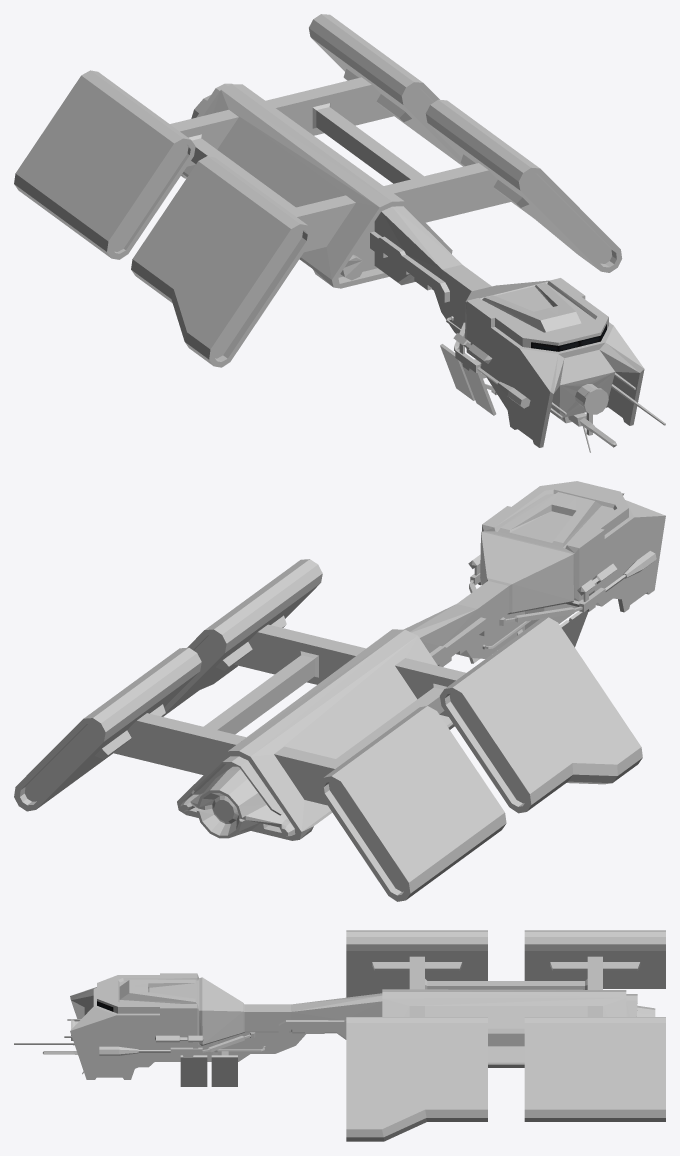
Rendered from transport_science_l1.fbx.
The picture shows the model from 3 angles, top to bottom: view 1: azimuth 30°, elevation 25°; view 2: azimuth 150°, elevation 25°; view 3: azimuth 270°, elevation 25°; orthographic projection. The views are drawn at different scales.
Parts seen in each view (by area): view 1: mesh_node; view 2: mesh_node; view 3: mesh_node.
Part boxes in pixels (x1=…): mesh_node: x1=14, y1=14, x2=665, y2=452; mesh_node: x1=14, y1=481, x2=665, y2=901; mesh_node: x1=14, y1=930, x2=665, y2=1141.
Size of the model in its own units: 61.07 by 18.76 by 110.
